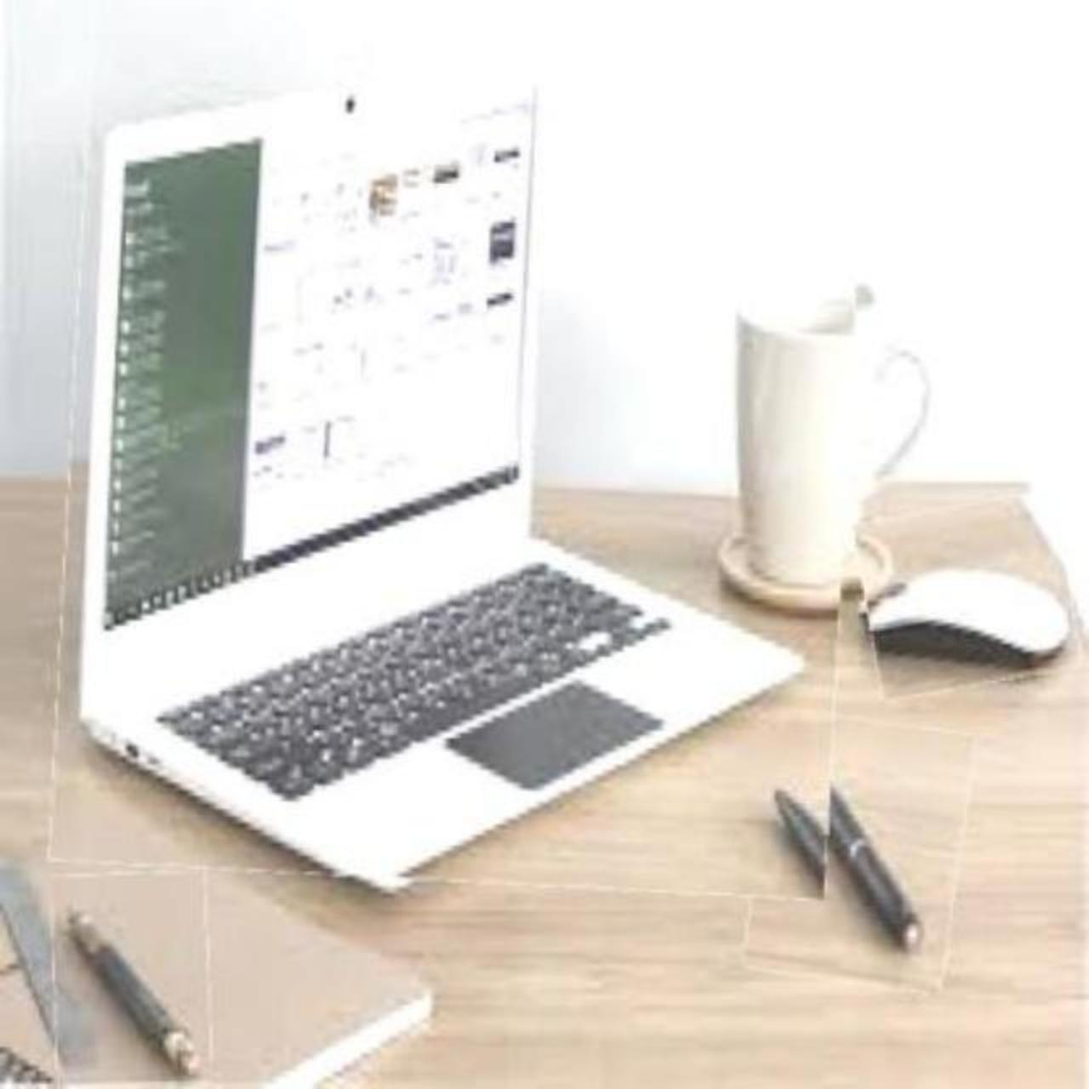laptop: (60, 9, 858, 890)
